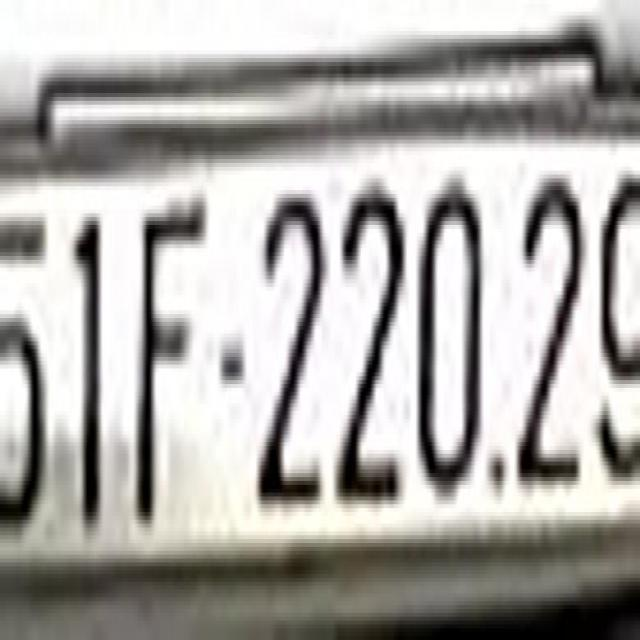0: (421, 178, 480, 485)
1: (73, 206, 103, 532)
2: (518, 155, 582, 508), (255, 182, 322, 508), (339, 190, 404, 497)
5: (0, 202, 46, 547)
9: (600, 167, 640, 481)
F: (136, 198, 206, 516)
